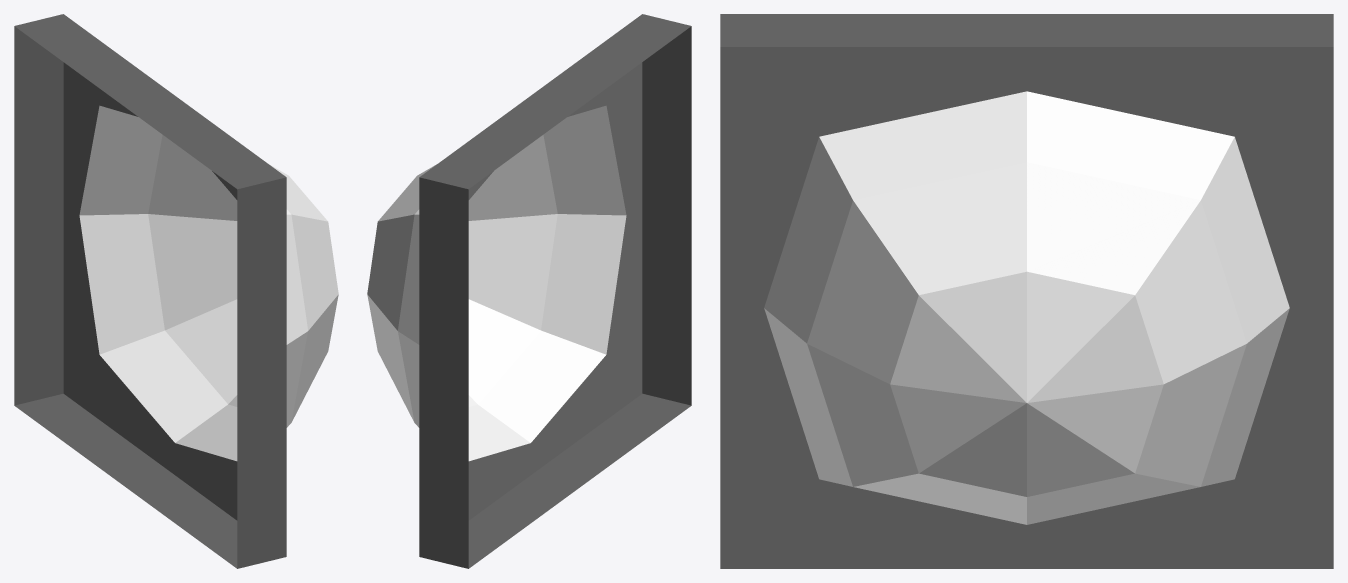
The model's file is Light_Alert_Small.fbx.
3 views of the same model, side by side, from view 1: azimuth 30°, elevation 25°; view 2: azimuth 150°, elevation 25°; view 3: azimuth 270°, elevation 25° (orthographic). The views are drawn at different scales.
Visible parts, largest first — view 1: Small_Alert_Light_Frame, Small_Alert_Light; view 2: Small_Alert_Light_Frame, Small_Alert_Light; view 3: Small_Alert_Light, Small_Alert_Light_Frame.
Part boxes in pixels (x1,y1,x2,y2): Small_Alert_Light_Frame: (14,14,286,568); Small_Alert_Light: (79,105,338,461); Small_Alert_Light_Frame: (419,14,691,568); Small_Alert_Light: (367,105,626,461); Small_Alert_Light: (764,91,1289,524); Small_Alert_Light_Frame: (720,14,1333,568).
Bounding box in the file's own units: 21.41 × 40.67 × 43.32.
